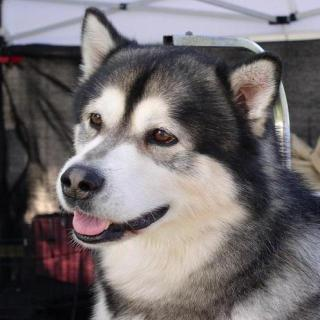dog: (31, 12, 300, 270)
nose: (58, 162, 104, 204)
